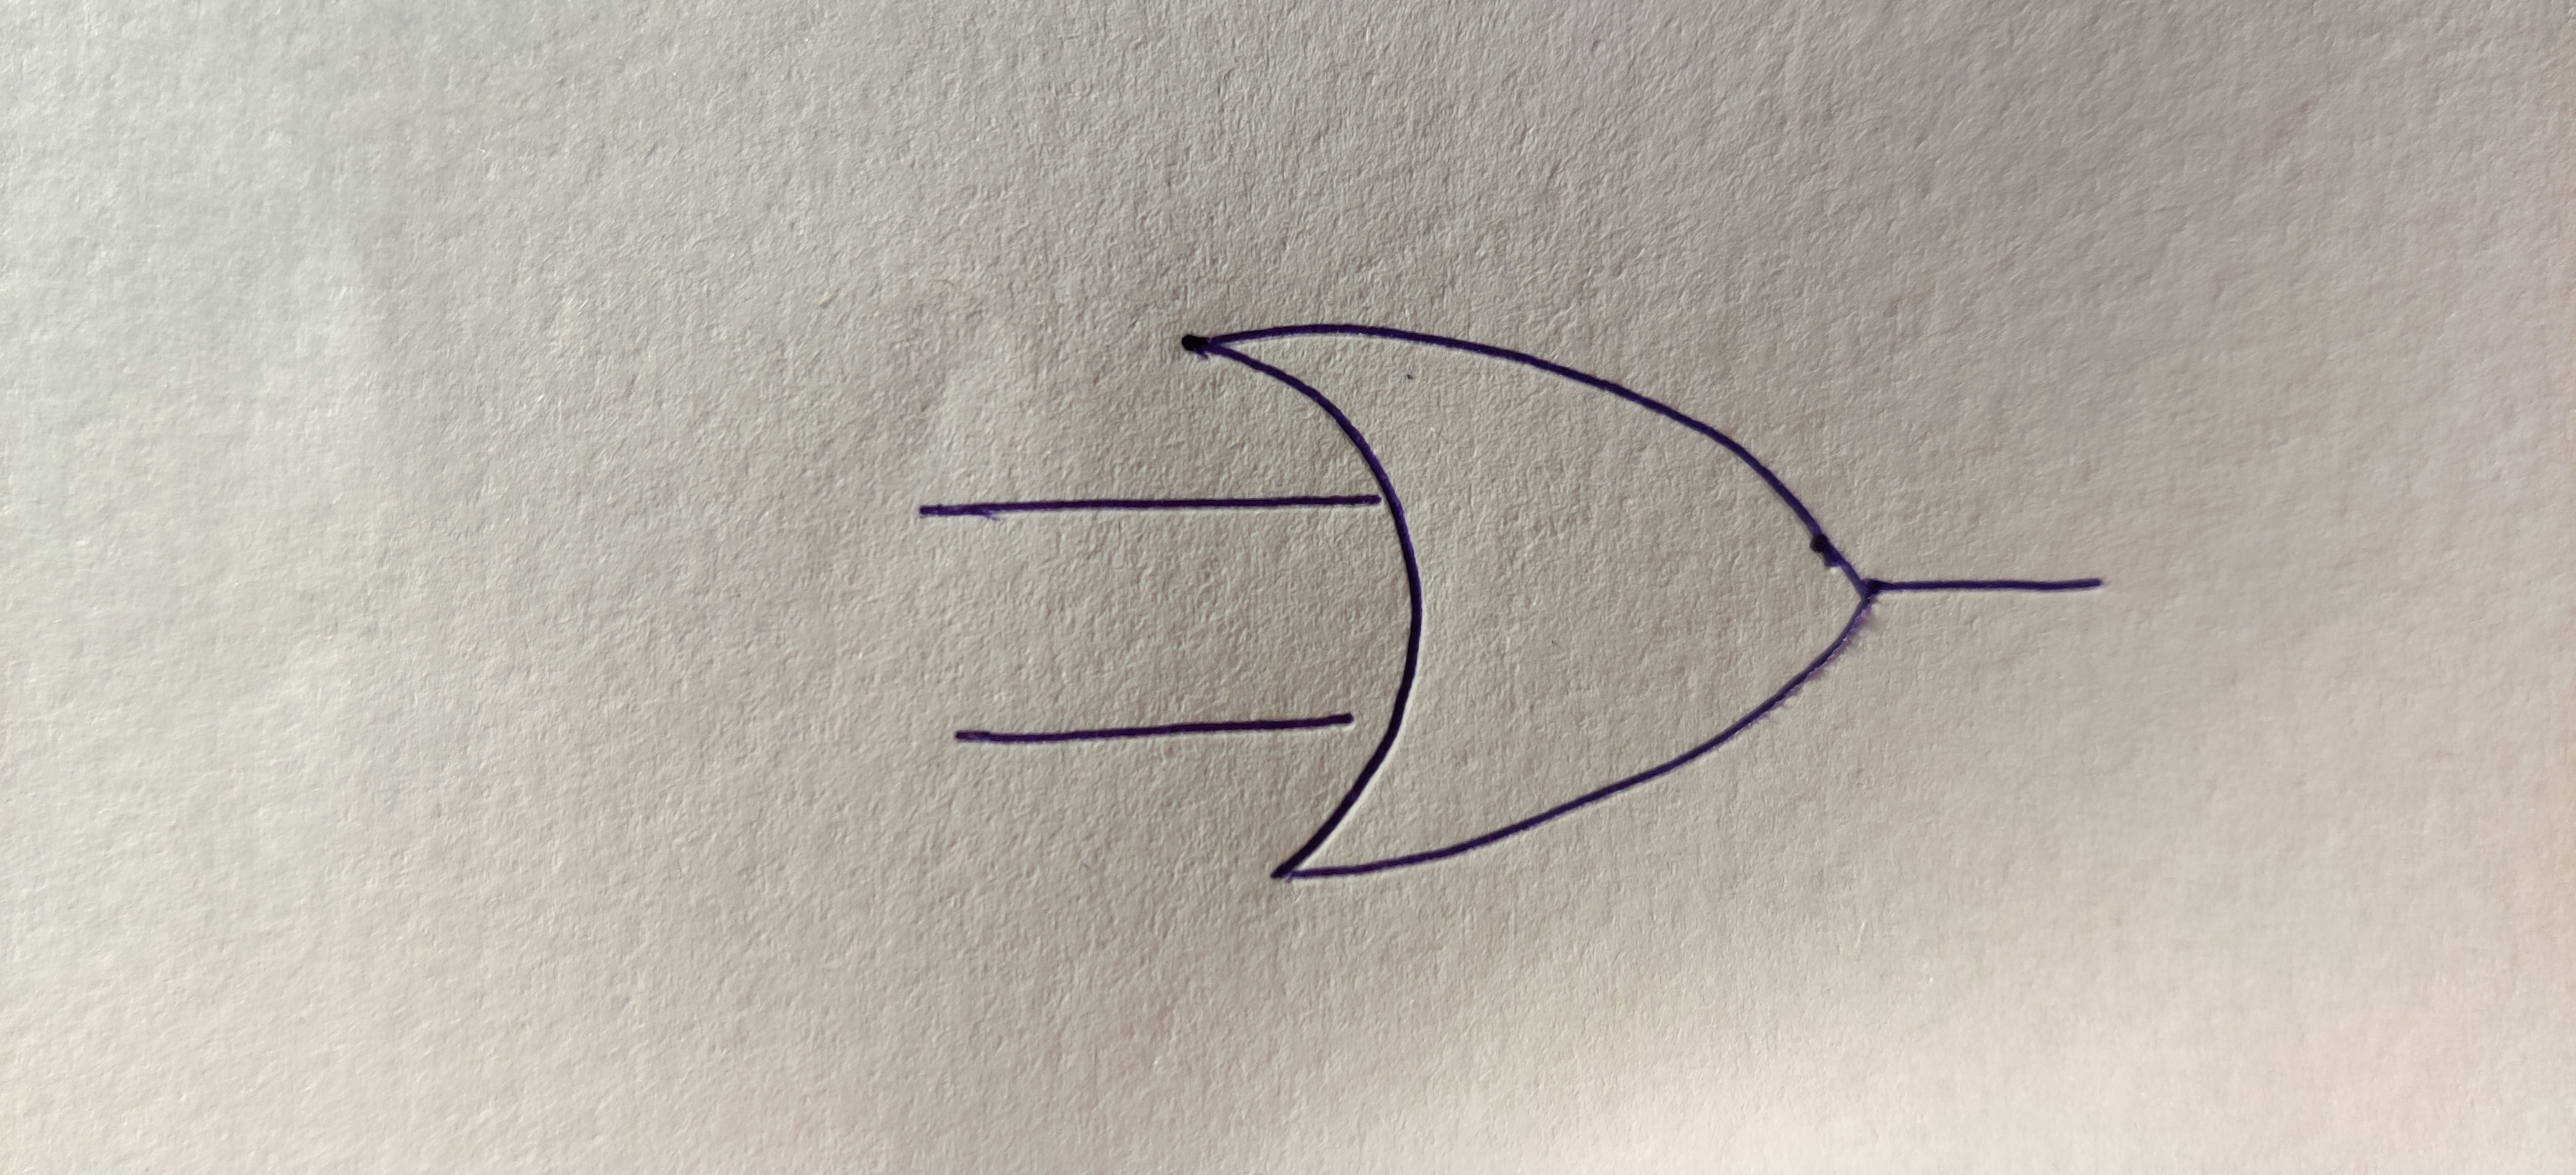or: (1189, 322, 1876, 879)
